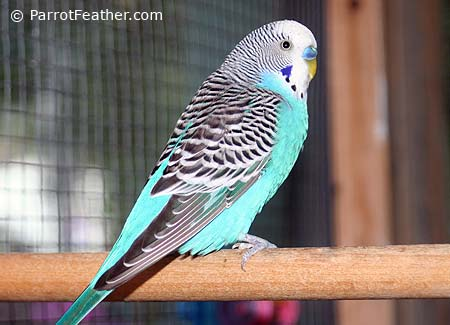budgie: (58, 21, 319, 325)
